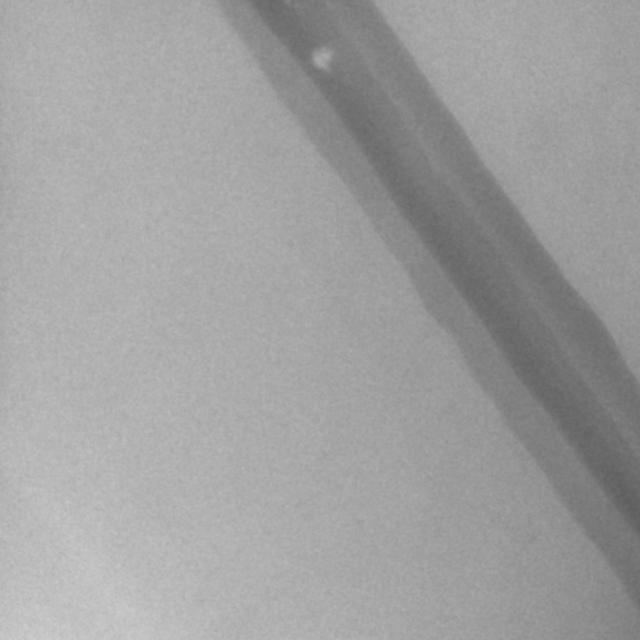slag inclusion: (311, 47, 331, 72)
